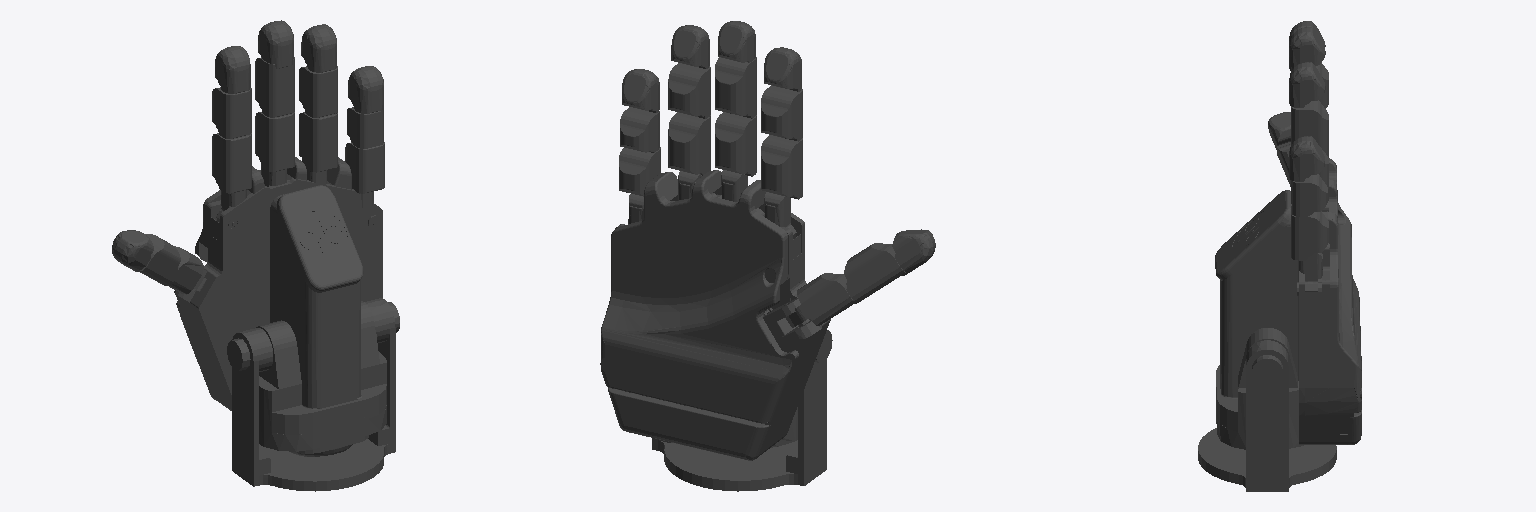
--- Render facts (derived) ---
3 views of the same robot in one strip: view 1: azimuth 30°, elevation 25°; view 2: azimuth 150°, elevation 25°; view 3: azimuth 270°, elevation 25° (orthographic).
Model qbshin with 38 links and 37 joints (34 revolute, 3 fixed), rooted at root_link, posed every joint at zero.
Visible links, largest first — view 1: qbshin_palm_link, qbshin_base_link, qbshin_index_proximal_link, qbshin_middle_proximal_link, qbshin_ring_proximal_link, qbshin_middle_middle_link, qbshin_index_middle_link, qbshin_ring_middle_link, qbshin_little_proximal_link, qbshin_index_distal_link, qbshin_little_distal_link, qbshin_ring_distal_link (+5 smaller); view 2: qbshin_palm_link, qbshin_base_link, qbshin_ring_proximal_link, qbshin_middle_proximal_link, qbshin_index_proximal_link, qbshin_thumb_proximal_link, qbshin_thumb_knuckle_link, qbshin_middle_middle_link, qbshin_ring_middle_link, qbshin_index_middle_link, qbshin_little_middle_link, qbshin_little_proximal_link (+7 smaller); view 3: qbshin_palm_link, qbshin_base_link, qbshin_little_proximal_link, qbshin_ring_middle_link, qbshin_ring_distal_link, qbshin_little_distal_link, qbshin_little_middle_link, qbshin_middle_distal_link, qbshin_little_knuckle_link, qbshin_thumb_distal_link.
Boxes of the visible links, box(x1,y1,x2,y2) form: qbshin_palm_link: box(174, 157, 386, 456); qbshin_base_link: box(227, 298, 399, 491); qbshin_index_proximal_link: box(212, 133, 251, 193); qbshin_middle_proximal_link: box(255, 112, 294, 171); qbshin_ring_proximal_link: box(299, 112, 337, 172); qbshin_middle_middle_link: box(255, 57, 294, 117); qbshin_index_middle_link: box(212, 87, 251, 138); qbshin_ring_middle_link: box(299, 66, 337, 117); qbshin_little_proximal_link: box(345, 142, 384, 193); qbshin_index_distal_link: box(215, 46, 250, 93); qbshin_little_distal_link: box(348, 66, 383, 113); qbshin_ring_distal_link: box(301, 24, 336, 72); qbshin_palm_link: box(600, 170, 830, 460); qbshin_base_link: box(652, 330, 832, 491); qbshin_ring_proximal_link: box(668, 112, 710, 175); qbshin_middle_proximal_link: box(715, 112, 756, 176); qbshin_index_proximal_link: box(761, 135, 802, 199); qbshin_thumb_proximal_link: box(844, 243, 905, 303); qbshin_thumb_knuckle_link: box(785, 273, 854, 327); qbshin_middle_middle_link: box(715, 57, 756, 118); qbshin_ring_middle_link: box(668, 63, 710, 118); qbshin_index_middle_link: box(761, 85, 802, 141); qbshin_little_middle_link: box(620, 107, 659, 152); qbshin_little_proximal_link: box(619, 147, 660, 196); qbshin_palm_link: box(1215, 158, 1361, 449); qbshin_base_link: box(1198, 340, 1336, 491); qbshin_little_proximal_link: box(1291, 206, 1328, 260); qbshin_ring_middle_link: box(1291, 100, 1328, 145); qbshin_ring_distal_link: box(1289, 62, 1325, 107); qbshin_little_distal_link: box(1289, 136, 1324, 181); qbshin_little_middle_link: box(1292, 174, 1327, 216); qbshin_middle_distal_link: box(1289, 27, 1325, 70); qbshin_little_knuckle_link: box(1297, 253, 1322, 295); qbshin_thumb_distal_link: box(1268, 112, 1290, 149).
Size in the robot's own frame: 0.1598 by 0.0839 by 0.2363 metres.
Meshes: 10 distinct files referenced, 21 mesh visuals loaded (10 binary STL).

URDF robot description (qbshin):
<?xml version="1.0" ?>
<!-- =================================================================================== -->
<!-- |    This document was autogenerated by xacro from ./qbshin.urdf.xacro            | -->
<!-- |    EDITING THIS FILE BY HAND IS NOT RECOMMENDED                                 | -->
<!-- =================================================================================== -->
<robot name="qbshin">
  <material name="qbshin/optional">
    <color rgba="0.0 0.5 0.8 1.0"/>
  </material>
  <material name="qbshin/base">
    <color rgba="0.35 0.35 0.35 1.0"/>
  </material>
  <material name="qbshin/palm">
    <color rgba="0.35 0.35 0.35 1.0"/>
  </material>
  <material name="qbshin/knuckle">
    <color rgba="0.35 0.35 0.35 1.0"/>
  </material>
  <material name="qbshin/proximal">
    <color rgba="0.35 0.35 0.35 1.0"/>
  </material>
  <material name="qbshin/middle">
    <color rgba="0.35 0.35 0.35 1.0"/>
  </material>
  <material name="qbshin/distal">
    <color rgba="0.35 0.35 0.35 1.0"/>
  </material>
  <material name="qbshin/default">
    <color rgba="0.35 0.35 0.35 1.0"/>
  </material>
  <link name="root_link"/>
  <joint name="qbshin_base_fixed_joint" type="fixed">
    <origin rpy="0 0 0" xyz="0 0 0"/>
    <parent link="root_link"/>
    <child link="qbshin_base_link"/>
  </joint>
  <link name="qbshin_base_link">
    <inertial>
      <mass value="0.45"/>
      <origin rpy="0 0 0" xyz="0.0030 -0.0449 0.0135"/>
      <inertia ixx="0.00045" ixy="0.0" ixz="0.0" iyy="0.0006" iyz="0.0" izz="0.00025"/>
    </inertial>
    <visual>
      <origin rpy="0 0 0" xyz="0 0 0"/>
      <geometry>
        <mesh filename="package://meshes/shin_wrist_urdf.stl" scale="0.001 0.001 0.001"/>
      </geometry>
      <material name="qbshin/base"/>
    </visual>
    <collision>
      <origin rpy="0 0 0" xyz="0 0 0"/>
      <geometry>
        <mesh filename="package://meshes/shin_wrist_urdf.stl" scale="0.001 0.001 0.001"/>
      </geometry>
    </collision>
  </link>
  <gazebo reference="qbshin_base_link">
    <self_collide>1</self_collide>
    <!-- TODO: add other Gazebo Link properties (http://sdformat.org/spec?elem=link) -->
    <!--      <collision>-->
    <!--        <surface>-->
    <!--          <contact>-->
    <!--            <ode>-->
    <!--              <kp>1.0</kp>-->
    <!--              <kd>0.01</kd>-->
    <!--              <max_vel>0.0</max_vel>-->
    <!--              <min_depth>0.001</min_depth>-->
    <!--            </ode>-->
    <!--          </contact>-->
    <!--          <friction>-->
    <!--            <ode>-->
    <!--              <mu>0.9</mu>-->
    <!--              <mu2>0.9</mu2>-->
    <!--            </ode>-->
    <!--          </friction>-->
    <!--        </surface>-->
    <!--      </collision>-->
  </gazebo>
  <joint name="qbshin_palm_fixed_joint" type="fixed">
    <origin rpy="1.57 0 0" xyz="-0.005 0.0 0.071"/>
    <parent link="qbshin_base_link"/>
    <child link="qbshin_palm_link"/>
  </joint>
  <link name="qbshin_palm_link">
    <inertial>
      <mass value="0.45"/>
      <origin rpy="0 0 0" xyz="0.0030 -0.0449 -0.0135"/>
      <inertia ixx="0.00045" ixy="0.0" ixz="0.0" iyy="0.0006" iyz="0.0" izz="0.00025"/>
    </inertial>
    <visual>
      <origin rpy="0 0 0" xyz="0 0 0"/>
      <geometry>
        <mesh filename="package://meshes/shin_frame_urdf.stl" scale="0.001 0.001 0.001"/>
      </geometry>
      <material name="qbshin/palm"/>
    </visual>
    <collision>
      <origin rpy="0 0 0" xyz="0 0 0"/>
      <geometry>
        <mesh filename="package://meshes/shin_frame_urdf.stl" scale="0.001 0.001 0.001"/>
      </geometry>
    </collision>
  </link>
  <gazebo reference="qbshin_palm_link">
    <self_collide>1</self_collide>
    <!-- TODO: add other Gazebo Link properties (http://sdformat.org/spec?elem=link) -->
    <!--      <collision>-->
    <!--        <surface>-->
    <!--          <contact>-->
    <!--            <ode>-->
    <!--              <kp>1.0</kp>-->
    <!--              <kd>0.01</kd>-->
    <!--              <max_vel>0.0</max_vel>-->
    <!--              <min_depth>0.001</min_depth>-->
    <!--            </ode>-->
    <!--          </contact>-->
    <!--          <friction>-->
    <!--            <ode>-->
    <!--              <mu>0.9</mu>-->
    <!--              <mu2>0.9</mu2>-->
    <!--            </ode>-->
    <!--          </friction>-->
    <!--        </surface>-->
    <!--      </collision>-->
  </gazebo>
  <joint name="qbshin_synergy_joint" type="revolute">
    <origin rpy="0 0 0" xyz="0 0 0"/>
    <parent link="qbshin_palm_link"/>
    <child link="qbshin_synergy_tendon_virtual_link"/>
    <axis xyz="0 0 1"/>
    <dynamics damping="0.0" friction="0.0"/>
    <limit effort="100" lower="0.0" upper="1.0" velocity="100"/>
  </joint>
  <transmission name="qbshin_synergy_transmission">
    <type>transmission_interface/qbMoveTransmission</type>
    <joint name="qbshin_synergy_joint">
      <hardwareInterface>hardware_interface/EffortJointInterface</hardwareInterface>
    </joint>
    <actuator name="qbshin_synergy_joint">
      <hardwareInterface>hardware_interface/EffortJointInterface</hardwareInterface>
    </actuator>
  </transmission>
  <link name="qbshin_synergy_tendon_virtual_link">
    <inertial>
      <origin rpy="0 0 0" xyz="0 0 0"/>
      <mass value="1e-4"/>
      <inertia ixx="1e-9" ixy="0.0" ixz="0.0" iyy="1e-9" iyz="0.0" izz="1e-9"/>
    </inertial>
  </link>
  <joint name="qbshin_thumb_knuckle_joint" type="revolute">
    <origin rpy="-1.57 3.5 -0.68" xyz="-0.044 0.027 -0.03"/>
    <parent link="qbshin_palm_link"/>
    <child link="qbshin_thumb_knuckle_link"/>
    <axis xyz="0 0 -1"/>
    <dynamics damping="0.0" friction="0.0"/>
    <limit effort="100" lower="0.0" upper="1.571" velocity="100"/>
    <mimic joint="qbshin_synergy_joint" multiplier="2.542"/>
  </joint>
  <transmission name="qbshin_transmission">
    <type>transmission_interface/qbMoveTransmission</type>
    <joint name="qbshin_thumb_knuckle_joint">
      <hardwareInterface>hardware_interface/EffortJointInterface</hardwareInterface>
    </joint>
    <actuator name="qbshin_thumb_knuckle_joint">
      <hardwareInterface>hardware_interface/EffortJointInterface</hardwareInterface>
    </actuator>
  </transmission>
  <gazebo reference="qbshin_thumb_knuckle_joint">
    <!-- TODO: add other Gazebo Joint properties (http://sdformat.org/spec?elem=joint) -->
  </gazebo>
  <link name="qbshin_thumb_knuckle_link">
    <inertial>
      <mass value="0.01"/>
      <origin rpy="0 0 0" xyz="1.3071561e-02 -2.7357764e-03 6.4347823e-04"/>
      <inertia ixx="3.5865978e-07" ixy="2.0944224e-07" ixz="-6.8657569e-08" iyy="1.3885564e-06" iyz="3.2170608e-08" izz="1.3571203e-06"/>
    </inertial>
    <visual>
      <origin rpy="0 0 0" xyz="0 0 0"/>
      <geometry>
        <mesh filename="package://meshes/sh_ph_thumb_inj_d9_r_urdf.stl" scale="0.001 0.001 0.001"/>
      </geometry>
      <material name="qbshin/knuckle"/>
    </visual>
    <collision>
      <origin rpy="0 0 0" xyz="0 0 0"/>
      <geometry>
        <mesh filename="package://meshes/sh_ph_thumb_inj_d9_r_urdf.stl" scale="0.001 0.001 0.001"/>
      </geometry>
    </collision>
  </link>
  <gazebo reference="qbshin_thumb_knuckle_link">
    <self_collide>1</self_collide>
    <!-- TODO: add other Gazebo Link properties (http://sdformat.org/spec?elem=link) -->
    <!--      <collision>-->
    <!--        <surface>-->
    <!--          <contact>-->
    <!--            <ode>-->
    <!--              <kp>1.0</kp>-->
    <!--              <kd>0.01</kd>-->
    <!--              <max_vel>0.0</max_vel>-->
    <!--              <min_depth>0.001</min_depth>-->
    <!--            </ode>-->
    <!--          </contact>-->
    <!--          <friction>-->
    <!--            <ode>-->
    <!--              <mu>0.9</mu>-->
    <!--              <mu2>0.9</mu2>-->
    <!--            </ode>-->
    <!--          </friction>-->
    <!--        </surface>-->
    <!--      </collision>-->
  </gazebo>
  <joint name="qbshin_thumb_proximal_joint" type="revolute">
    <origin rpy="-1.57 0.0 0.0" xyz="0.02 -0.003 0"/>
    <parent link="qbshin_thumb_knuckle_link"/>
    <child link="qbshin_thumb_proximal_virtual_link"/>
    <axis xyz="0 0 -1"/>
    <dynamics damping="0.0" friction="0.0"/>
    <limit effort="100" lower="0.0" upper="0.785" velocity="100"/>
    <mimic joint="qbshin_synergy_joint" multiplier="0.785"/>
  </joint>
  <transmission name="qbshin_transmission">
    <type>transmission_interface/qbMoveTransmission</type>
    <joint name="qbshin_thumb_proximal_joint">
      <hardwareInterface>hardware_interface/EffortJointInterface</hardwareInterface>
    </joint>
    <actuator name="qbshin_thumb_proximal_joint">
      <hardwareInterface>hardware_interface/EffortJointInterface</hardwareInterface>
    </actuator>
  </transmission>
  <gazebo reference="qbshin_thumb_proximal_joint">
    <!-- TODO: add other Gazebo Joint properties (http://sdformat.org/spec?elem=joint) -->
  </gazebo>
  <link name="qbshin_thumb_proximal_virtual_link">
    <inertial>
      <origin rpy="0 0 0" xyz="0 0 0"/>
      <mass value="1e-4"/>
      <inertia ixx="1e-9" ixy="0.0" ixz="0.0" iyy="1e-9" iyz="0.0" izz="1e-9"/>
    </inertial>
  </link>
  <joint name="qbshin_thumb_proximal_virtual_joint" type="revolute">
    <origin rpy="0 0 0" xyz="0.013 0 0"/>
    <parent link="qbshin_thumb_proximal_virtual_link"/>
    <child link="qbshin_thumb_proximal_link"/>
    <axis xyz="0 0 -1"/>
    <dynamics damping="0.0" friction="0.0"/>
    <limit effort="100" lower="0.0" upper="0.785" velocity="100"/>
    <mimic joint="qbshin_thumb_proximal_joint" multiplier="1.0"/>
  </joint>
  <transmission name="qbshin_transmission">
    <type>transmission_interface/qbMoveTransmission</type>
    <joint name="qbshin_thumb_proximal_virtual_joint">
      <hardwareInterface>hardware_interface/EffortJointInterface</hardwareInterface>
    </joint>
    <actuator name="qbshin_thumb_proximal_virtual_joint">
      <hardwareInterface>hardware_interface/EffortJointInterface</hardwareInterface>
    </actuator>
  </transmission>
  <gazebo reference="qbshin_thumb_proximal_virtual_joint">
    <!-- TODO: add other Gazebo Joint properties (http://sdformat.org/spec?elem=joint) -->
  </gazebo>
  <link name="qbshin_thumb_proximal_link">
    <inertial>
      <mass value="0.0082"/>
      <origin rpy="0 0 0" xyz="8.7707437e-03 -1.7863138e-03 0.0"/>
      <inertia ixx="2.2722068e-07" ixy="1.1586053e-08" ixz="0.0" iyy="5.5947233e-07" iyz="0.0" izz="5.9562195e-07"/>
    </inertial>
    <visual>
      <origin rpy="0 0 0" xyz="0 0 0"/>
      <geometry>
        <mesh filename="package://meshes/mc_h_pad_30_urdf.stl" scale="0.001 0.001 0.001"/>
      </geometry>
      <material name="qbshin/proximal"/>
    </visual>
    <collision>
      <origin rpy="0 0 0" xyz="0 0 0"/>
      <geometry>
        <mesh filename="package://meshes/mc_h_pad_30_urdf.stl" scale="0.001 0.001 0.001"/>
      </geometry>
    </collision>
  </link>
  <gazebo reference="qbshin_thumb_proximal_link">
    <self_collide>1</self_collide>
    <!-- TODO: add other Gazebo Link properties (http://sdformat.org/spec?elem=link) -->
    <!--      <collision>-->
    <!--        <surface>-->
    <!--          <contact>-->
    <!--            <ode>-->
    <!--              <kp>1.0</kp>-->
    <!--              <kd>0.01</kd>-->
    <!--              <max_vel>0.0</max_vel>-->
    <!--              <min_depth>0.001</min_depth>-->
    <!--            </ode>-->
    <!--          </contact>-->
    <!--          <friction>-->
    <!--            <ode>-->
    <!--              <mu>0.9</mu>-->
    <!--              <mu2>0.9</mu2>-->
    <!--            </ode>-->
    <!--          </friction>-->
    <!--        </surface>-->
    <!--      </collision>-->
  </gazebo>
  <joint name="qbshin_thumb_distal_joint" type="revolute">
    <origin rpy="0.0 0.0 0.0" xyz="0.014 0.002 0"/>
    <parent link="qbshin_thumb_proximal_link"/>
    <child link="qbshin_thumb_distal_virtual_link"/>
    <axis xyz="0 0 -1"/>
    <dynamics damping="0.0" friction="0.0"/>
    <limit effort="100" lower="0.0" upper="0.785" velocity="100"/>
    <mimic joint="qbshin_synergy_joint" multiplier="0.785"/>
  </joint>
  <transmission name="qbshin_transmission">
    <type>transmission_interface/qbMoveTransmission</type>
    <joint name="qbshin_thumb_distal_joint">
      <hardwareInterface>hardware_interface/EffortJointInterface</hardwareInterface>
    </joint>
    <actuator name="qbshin_thumb_distal_joint">
      <hardwareInterface>hardware_interface/EffortJointInterface</hardwareInterface>
    </actuator>
  </transmission>
  <gazebo reference="qbshin_thumb_distal_joint">
    <!-- TODO: add other Gazebo Joint properties (http://sdformat.org/spec?elem=joint) -->
  </gazebo>
  <link name="qbshin_thumb_distal_virtual_link">
    <inertial>
      <origin rpy="0 0 0" xyz="0 0 0"/>
      <mass value="1e-4"/>
      <inertia ixx="1e-9" ixy="0.0" ixz="0.0" iyy="1e-9" iyz="0.0" izz="1e-9"/>
    </inertial>
  </link>
  <joint name="qbshin_thumb_distal_virtual_joint" type="revolute">
    <origin rpy="0 0 0" xyz="0.013 0 0"/>
    <parent link="qbshin_thumb_distal_virtual_link"/>
    <child link="qbshin_thumb_distal_link"/>
    <axis xyz="0 0 -1"/>
    <dynamics damping="0.0" friction="0.0"/>
    <limit effort="100" lower="0.0" upper="0.785" velocity="100"/>
    <mimic joint="qbshin_thumb_distal_joint" multiplier="1.0"/>
  </joint>
  <transmission name="qbshin_transmission">
    <type>transmission_interface/qbMoveTransmission</type>
    <joint name="qbshin_thumb_distal_virtual_joint">
      <hardwareInterface>hardware_interface/EffortJointInterface</hardwareInterface>
    </joint>
    <actuator name="qbshin_thumb_distal_virtual_joint">
      <hardwareInterface>hardware_interface/EffortJointInterface</hardwareInterface>
    </actuator>
  </transmission>
  <gazebo reference="qbshin_thumb_distal_virtual_joint">
    <!-- TODO: add other Gazebo Joint properties (http://sdformat.org/spec?elem=joint) -->
  </gazebo>
  <link name="qbshin_thumb_distal_link">
    <inertial>
      <mass value="0.009"/>
      <origin rpy="0 0 0" xyz="8.8025467e-03 -1.7219289e-03 0.0"/>
      <inertia ixx="2.6586142e-07" ixy="1.2416847e-08" ixz="0.0" iyy="5.9935767e-07" iyz="0.0" izz="6.6781963e-07"/>
    </inertial>
    <visual>
      <origin rpy="0 0 0" xyz="0 0 0"/>
      <geometry>
        <mesh filename="package://meshes/mc_h_pad_dist_urdf.stl" scale="0.001 0.001 0.001"/>
      </geometry>
      <material name="qbshin/distal"/>
    </visual>
    <collision>
      <origin rpy="0 0 0" xyz="0 0 0"/>
      <geometry>
        <mesh filename="package://meshes/mc_h_pad_dist_urdf.stl" scale="0.001 0.001 0.001"/>
      </geometry>
    </collision>
  </link>
  <gazebo reference="qbshin_thumb_distal_link">
    <self_collide>1</self_collide>
    <!-- TODO: add other Gazebo Link properties (http://sdformat.org/spec?elem=link) -->
    <!--      <collision>-->
    <!--        <surface>-->
    <!--          <contact>-->
    <!--            <ode>-->
    <!--              <kp>1.0</kp>-->
    <!--              <kd>0.01</kd>-->
    <!--              <max_vel>0.0</max_vel>-->
    <!--              <min_depth>0.001</min_depth>-->
    <!--            </ode>-->
    <!--          </contact>-->
    <!--          <friction>-->
    <!--            <ode>-->
    <!--              <mu>0.9</mu>-->
    <!--              <mu2>0.9</mu2>-->
    <!--            </ode>-->
    <!--          </friction>-->
    <!--        </surface>-->
    <!--      </collision>-->
  </gazebo>
  <joint name="qbshin_index_knuckle_joint" type="revolute">
    <origin rpy="1.57 0 1.57" xyz="-0.032 0.062 -0.022"/>
    <parent link="qbshin_palm_link"/>
    <child link="qbshin_index_knuckle_link"/>
    <axis xyz="0 0 -1"/>
    <dynamics damping="0.0" friction="0.0"/>
    <limit effort="100" lower="-0.524" upper="0.524" velocity="100"/>
    <mimic joint="qbshin_synergy_joint" multiplier="-0.2"/>
  </joint>
  <transmission name="qbshin_transmission">
    <type>transmission_interface/qbMoveTransmission</type>
    <joint name="qbshin_index_knuckle_joint">
      <hardwareInterface>hardware_interface/EffortJointInterface</hardwareInterface>
    </joint>
    <actuator name="qbshin_index_knuckle_joint">
      <hardwareInterface>hardware_interface/EffortJointInterface</hardwareInterface>
    </actuator>
  </transmission>
  <gazebo reference="qbshin_index_knuckle_joint">
    <!-- TODO: add other Gazebo Joint properties (http://sdformat.org/spec?elem=joint) -->
  </gazebo>
  <link name="qbshin_index_knuckle_link">
    <inertial>
      <mass value="0.0095"/>
      <origin rpy="0 0 0" xyz="4.2753603e-04  0.0 -1.4321738e-03"/>
      <inertia ixx="6.4337303e-07" ixy="0.0" ixz="-3.9373913e-08" iyy="1.1253771e-06" iyz="0.0" izz="7.2336948e-07"/>
    </inertial>
    <visual>
      <origin rpy="0 0 0" xyz="0 0 0"/>
      <geometry>
        <mesh filename="package://meshes/sh_ph_prx_inj_d9_l_urdf.stl" scale="0.001 0.001 0.001"/>
      </geometry>
      <material name="qbshin/knuckle"/>
    </visual>
    <collision>
      <origin rpy="0 0 0" xyz="0 0 0"/>
      <geometry>
        <mesh filename="package://meshes/sh_ph_prx_inj_d9_l_urdf.stl" scale="0.001 0.001 0.001"/>
      </geometry>
    </collision>
  </link>
  <gazebo reference="qbshin_index_knuckle_link">
    <self_collide>1</self_collide>
    <!-- TODO: add other Gazebo Link properties (http://sdformat.org/spec?elem=link) -->
    <!--      <collision>-->
    <!--        <surface>-->
    <!--          <contact>-->
    <!--            <ode>-->
    <!--              <kp>1.0</kp>-->
    <!--              <kd>0.01</kd>-->
    <!--              <max_vel>0.0</max_vel>-->
    <!--              <min_depth>0.001</min_depth>-->
    <!--            </ode>-->
    <!--          </contact>-->
    <!--          <friction>-->
    <!--            <ode>-->
    <!--              <mu>0.9</mu>-->
    <!--              <mu2>0.9</mu2>-->
    <!--            </ode>-->
    <!--          </friction>-->
    <!--        </surface>-->
    <!--      </collision>-->
  </gazebo>
  <joint name="qbshin_index_proximal_joint" type="revolute">
    <origin rpy="0.0 0.0 0.0" xyz="0.01 0 0.002"/>
    <parent link="qbshin_index_knuckle_link"/>
    <child link="qbshin_index_proximal_virtual_link"/>
    <axis xyz="0 0 -1"/>
    <dynamics damping="0.0" friction="0.0"/>
    <limit effort="100" lower="0.0" upper="0.785" velocity="100"/>
    <mimic joint="qbshin_synergy_joint" multiplier="0.785"/>
  </joint>
  <transmission name="qbshin_transmission">
    <type>transmission_interface/qbMoveTransmission</type>
    <joint name="qbshin_index_proximal_joint">
      <hardwareInterface>hardware_interface/EffortJointInterface</hardwareInterface>
    </joint>
    <actuator name="qbshin_index_proximal_joint">
      <hardwareInterface>hardware_interface/EffortJointInterface</hardwareInterface>
    </actuator>
  </transmission>
  <gazebo reference="qbshin_index_proximal_joint">
    <!-- TODO: add other Gazebo Joint properties (http://sdformat.org/spec?elem=joint) -->
  </gazebo>
  <link name="qbshin_index_proximal_virtual_link">
    <inertial>
      <origin rpy="0 0 0" xyz="0 0 0"/>
      <mass value="1e-4"/>
      <inertia ixx="1e-9" ixy="0.0" ixz="0.0" iyy="1e-9" iyz="0.0" izz="1e-9"/>
    </inertial>
  </link>
  <joint name="qbshin_index_proximal_virtual_joint" type="revolute">
    <origin rpy="0 0 0" xyz="0.013 0 0"/>
    <parent link="qbshin_index_proximal_virtual_link"/>
    <child link="qbshin_index_proximal_link"/>
    <axis xyz="0 0 -1"/>
    <dynamics damping="0.0" friction="0.0"/>
    <limit effort="100" lower="0.0" upper="0.785" velocity="100"/>
    <mimic joint="qbshin_index_proximal_joint" multiplier="1.0"/>
  </joint>
  <transmission name="qbshin_transmission">
    <type>transmission_interface/qbMoveTransmission</type>
    <joint name="qbshin_index_proximal_virtual_joint">
      <hardwareInterface>hardware_interface/EffortJointInterface</hardwareInterface>
    </joint>
    <actuator name="qbshin_index_proximal_virtual_joint">
      <hardwareInterface>hardware_interface/EffortJointInterface</hardwareInterface>
    </actuator>
  </transmission>
  <gazebo reference="qbshin_index_proximal_virtual_joint">
    <!-- TODO: add other Gazebo Joint properties (http://sdformat.org/spec?elem=joint) -->
  </gazebo>
  <link name="qbshin_index_proximal_link">
    <inertial>
      <mass value="0.0082"/>
      <origin rpy="0 0 0" xyz="8.7707437e-03 -1.7863138e-03 0.0"/>
      <inertia ixx="2.2722068e-07" ixy="1.1586053e-08" ixz="0.0" iyy="5.5947233e-07" iyz="0.0" izz="5.9562195e-07"/>
    </inertial>
    <visual>
      <origin rpy="0 0 0" xyz="0 0 0"/>
      <geometry>
        <mesh filename="package://meshes/mc_h_pad_30_urdf.stl" scale="0.001 0.001 0.001"/>
      </geometry>
      <material name="qbshin/proximal"/>
    </visual>
    <collision>
      <origin rpy="0 0 0" xyz="0 0 0"/>
      <geometry>
        <mesh filename="package://meshes/mc_h_pad_30_urdf.stl" scale="0.001 0.001 0.001"/>
      </geometry>
    </collision>
  </link>
  <gazebo reference="qbshin_index_proximal_link">
    <self_collide>1</self_collide>
    <!-- TODO: add other Gazebo Link properties (http://sdformat.org/spec?elem=link) -->
    <!--      <collision>-->
    <!--        <surface>-->
    <!--          <contact>-->
    <!--            <ode>-->
    <!--              <kp>1.0</kp>-->
    <!--              <kd>0.01</kd>-->
    <!--              <max_vel>0.0</max_vel>-->
    <!--              <min_depth>0.001</min_depth>-->
    <!--            </ode>-->
    <!--          </contact>-->
    <!--          <friction>-->
    <!--            <ode>-->
    <!--              <mu>0.9</mu>-->
    <!--              <mu2>0.9</mu2>-->
    <!--            </ode>-->
    <!--          </friction>-->
    <!--        </surface>-->
    <!--      </collision>-->
  </gazebo>
  <joint name="qbshin_index_middle_joint" type="revolute">
    <origin rpy="0 0 0" xyz="0.017 0 0"/>
    <parent link="qbshin_index_proximal_link"/>
    <child link="qbshin_index_middle_virtual_link"/>
    <axis xyz="0 0 -1"/>
    <dynamics damping="0.0" friction="0.0"/>
    <limit effort="100" lower="0.0" upper="0.785" velocity="100"/>
    <mimic joint="qbshin_synergy_joint" multiplier="0.785"/>
  </joint>
  <transmission name="qbshin_transmission">
    <type>transmission_interface/qbMoveTransmission</type>
    <joint name="qbshin_index_middle_joint">
      <hardwareInterface>hardware_interface/EffortJointInterface</hardwareInterface>
    </joint>
    <actuator name="qbshin_index_middle_joint">
      <hardwareInterface>hardware_interface/EffortJointInterface</hardwareInterface>
    </actuator>
  </transmission>
  <gazebo reference="qbshin_index_middle_joint">
    <!-- TODO: add other Gazebo Joint properties (http://sdformat.org/spec?elem=joint) -->
  </gazebo>
  <link name="qbshin_index_middle_virtual_link">
    <inertial>
      <origin rpy="0 0 0" xyz="0 0 0"/>
      <mass value="1e-4"/>
      <inertia ixx="1e-9" ixy="0.0" ixz="0.0" iyy="1e-9" iyz="0.0" izz="1e-9"/>
    </inertial>
  </link>
  <joint name="qbshin_index_middle_virtual_joint" type="revolute">
    <origin rpy="0 0 0" xyz="0.013 0 0"/>
    <parent link="qbshin_index_middle_virtual_link"/>
    <child link="qbshin_index_middle_link"/>
    <axis xyz="0 0 -1"/>
    <dynamics damping="0.0" friction="0.0"/>
    <limit effort="100" lower="0.0" upper="0.785" velocity="100"/>
    <mimic joint="qbshin_index_middle_joint" multiplier="1.0"/>
  </joint>
  <transmission name="qbshin_transmission">
    <type>transmission_interface/qbMoveTransmission</type>
    <joint name="qbshin_index_middle_virtual_joint">
      <hardwareInterface>hardware_interface/EffortJointInterface</hardwareInterface>
    </joint>
    <actuator name="qbshin_index_middle_virtual_joint">
      <hardwareInterface>hardware_interface/EffortJointInterface</hardwareInterface>
    </actuator>
  </transmission>
  <gazebo reference="qbshin_index_middle_virtual_joint">
    <!-- TODO: add other Gazebo Joint properties (http://sdformat.org/spec?elem=joint) -->
  </gazebo>
  <link name="qbshin_index_middle_link">
    <inertial>
      <mass value="0.0082"/>
      <origin rpy="0 0 0" xyz="8.7707437e-03 -1.7863138e-03 0.0"/>
      <inertia ixx="2.2722068e-07" ixy="1.1586053e-08" ixz="0.0" iyy="5.5947233e-07" iyz="0.0" izz="5.9562195e-07"/>
    </inertial>
    <visual>
      <origin rpy="0 0 0" xyz="0 0 0"/>
      <geometry>
        <mesh filename="package://meshes/mc_h_pad_25_urdf.stl" scale="0.001 0.001 0.001"/>
      </geometry>
      <material name="qbshin/middle"/>
    </visual>
    <collision>
      <origin rpy="0 0 0" xyz="0 0 0"/>
      <geometry>
        <mesh filename="package://meshes/mc_h_pad_25_urdf.stl" scale="0.001 0.001 0.001"/>
      </geometry>
    </collision>
  </link>
  <gazebo reference="qbshin_index_middle_link">
    <self_collide>1</self_collide>
    <!-- TODO: add other Gazebo Link properties (http://sdformat.org/spec?elem=link) -->
    <!--      <collision>-->
    <!--        <surface>-->
    <!--          <contact>-->
    <!--            <ode>-->
    <!--              <kp>1.0</kp>-->
    <!--              <kd>0.01</kd>-->
    <!--              <max_vel>0.0</max_vel>-->
    <!--              <min_depth>0.001</min_depth>-->
    <!--            </ode>-->
    <!--          </contact>-->
    <!--          <friction>-->
    <!--            <ode>-->
    <!--              <mu>0.9</mu>-->
    <!--              <mu2>0.9</mu2>-->
    <!--            </ode>-->
    <!--          </friction>-->
    <!--        </surface>-->
    <!--      </collision>-->
  </gazebo>
  <joint name="qbshin_index_distal_joint" type="revolute">
    <origin rpy="0.0 0.0 0.0" xyz="0.012 0.002 0"/>
    <parent link="qbshin_index_middle_link"/>
    <child link="qbshin_index_distal_virtual_link"/>
    <axis xyz="0 0 -1"/>
    <dynamics damping="0.0" friction="0.0"/>
    <limit effort="100" lower="0.0" upper="0.785" velocity="100"/>
    <mimic joint="qbshin_synergy_joint" multiplier="0.785"/>
  </joint>
  <transmission name="qbshin_transmission">
    <type>transmission_interface/qbMoveTransmission</type>
    <joint name="qbshin_index_distal_joint">
      <hardwareInterface>hardware_interface/EffortJointInterface</hardwareInterface>
    </joint>
    <actuator name="qbshin_index_distal_joint">
      <hardwareInterface>hardware_interface/EffortJointInterface</hardwareInterface>
    </actuator>
  </transmission>
  <gazebo reference="qbshin_index_distal_joint">
    <!-- TODO: add other Gazebo Joint properties (http://sdformat.org/spec?elem=joint) -->
  </gazebo>
  <link name="qbshin_index_distal_virtual_link">
    <inertial>
      <origin rpy="0 0 0" xyz="0 0 0"/>
      <mass value="1e-4"/>
      <inertia ixx="1e-9" ixy="0.0" ixz="0.0" iyy="1e-9" iyz="0.0" izz="1e-9"/>
    </inertial>
  </link>
  <joint name="qbshin_index_distal_virtual_joint" type="revolute">
    <origin rpy="0 0 0" xyz="0.013 0 0"/>
    <parent link="qbshin_index_distal_virtual_link"/>
    <child link="qbshin_index_distal_link"/>
    <axis xyz="0 0 -1"/>
    <dynamics damping="0.0" friction="0.0"/>
    <limit effort="100" lower="0.0" upper="0.785" velocity="100"/>
    <mimic joint="qbshin_index_distal_joint" multiplier="1.0"/>
  </joint>
  <transmission name="qbshin_transmission">
    <type>transmission_interface/qbMoveTransmission</type>
    <joint name="qbshin_index_distal_virtual_joint">
      <hardwareInterface>hardware_interface/EffortJointInterface</hardwareInterface>
    </joint>
    <actuator name="qbshin_index_distal_virtual_joint">
      <hardwareInterface>hardware_interface/EffortJointInterface</hardwareInterface>
    </actuator>
  </transmission>
  <gazebo reference="qbshin_index_distal_virtual_joint">
    <!-- TODO: add other Gazebo Joint properties (http://sdformat.org/spec?elem=joint) -->
  </gazebo>
  <link name="qbshin_index_distal_link">
    <inertial>
      <mass value="0.009"/>
      <origin rpy="0 0 0" xyz="8.8025467e-03 -1.7219289e-03 0.0"/>
      <inertia ixx="2.6586142e-07" ixy="1.2416847e-08" ixz="0.0" iyy="5.9935767e-07" iyz="0.0" izz="6.6781963e-07"/>
    </inertial>
    <visual>
      <origin rpy="0 0 0" xyz="0 0 0"/>
      <geometry>
        <mesh filename="package://meshes/mc_h_pad_dist_urdf.stl" scale="0.001 0.001 0.001"/>
      </geometry>
      <material name="qbshin/distal"/>
    </visual>
    <collision>
      <origin rpy="0 0 0" xyz="0 0 0"/>
      <geometry>
        <mesh filename="package://meshes/mc_h_pad_dist_urdf.stl" scale="0.001 0.001 0.001"/>
      </geometry>
    </collision>
  </link>
  <gazebo reference="qbshin_index_distal_link">
    <self_collide>1</self_collide>
    <!-- TODO: add other Gazebo Link properties (http://sdformat.org/spec?elem=link) -->
    <!--      <collision>-->
    <!--        <surface>-->
    <!--          <contact>-->
    <!--            <ode>-->
    <!--              <kp>1.0</kp>-->
    <!--              <kd>0.01</kd>-->
    <!--              <max_vel>0.0</max_vel>-->
    <!--              <min_depth>0.001</min_depth>-->
    <!--            </ode>-->
    <!--          </contact>-->
    <!--          <friction>-->
    <!--            <ode>-->
    <!--              <mu>0.9</mu>-->
    <!--              <mu2>0.9</mu2>-->
    <!--            </ode>-->
    <!--          </friction>-->
    <!--        </surface>-->
    <!--      </collision>-->
  </gazebo>
  <joint name="qbshin_middle_knuckle_joint" type="revolute">
    <origin rpy="1.57 0 1.57" xyz="-0.005 0.068 -0.022"/>
    <parent link="qbshin_palm_link"/>
    <child link="qbshin_middle_knuckle_link"/>
    <axis xyz="0 0 -1"/>
    <dynamics damping="0.0" friction="0.0"/>
    <limit effort="100" lower="-0.524" upper="0.524" velocity="100"/>
    <mimic joint="qbshin_synergy_joint" multiplier="0.0"/>
  </joint>
  <transmission name="qbshin_transmission">
    <type>transmission_interface/qbMoveTransmission</type>
    <joint name="qbshin_middle_knuckle_joint">
      <hardwareInterface>hardware_interface/EffortJointInterface</hardwareInterface>
    </joint>
    <actuator name="qbshin_middle_knuckle_joint">
      <hardwareInterface>hardware_interface/EffortJointInterface</hardwareInterface>
    </actuator>
  </transmission>
  <gazebo reference="qbshin_middle_knuckle_joint">
    <!-- TODO: add other Gazebo Joint properties (http://sdformat.org/spec?elem=joint) -->
  </gazebo>
  <link name="qbshin_middle_knuckle_link">
    <inertial>
      <mass value="0.0095"/>
      <origin rpy="0 0 0" xyz="4.2753603e-04  0.0 -1.4321738e-03"/>
      <inertia ixx="6.4337303e-07" ixy="0.0" ixz="-3.9373913e-08" iyy="1.1253771e-06" iyz="0.0" izz="7.2336948e-07"/>
    </inertial>
    <visual>
      <origin rpy="0 0 0" xyz="0 0 0"/>
      <geometry>
        <mesh filename="package://meshes/sh_ph_prx_inj_d9_m_urdf.stl" scale="0.001 0.001 0.001"/>
      </geometry>
      <material name="qbshin/knuckle"/>
    </visual>
    <collision>
      <origin rpy="0 0 0" xyz="0 0 0"/>
      <geometry>
        <mesh filename="package://meshes/sh_ph_prx_inj_d9_m_urdf.stl" scale="0.001 0.001 0.001"/>
      </geometry>
    </collision>
  </link>
  <gazebo reference="qbshin_middle_knuckle_link">
    <self_collide>1</self_collide>
    <!-- TODO: add other Gazebo Link properties (http://sdformat.org/spec?elem=link) -->
    <!--      <collision>-->
    <!--        <surface>-->
    <!--          <contact>-->
    <!--            <ode>-->
    <!--              <kp>1.0</kp>-->
    <!--              <kd>0.01</kd>-->
    <!--              <max_vel>0.0</max_vel>-->
    <!--              <min_depth>0.001</min_depth>-->
    <!--            </ode>-->
    <!--          </contact>-->
    <!--          <friction>-->
    <!--            <ode>-->
    <!--              <mu>0.9</mu>-->
    <!--              <mu2>0.9</mu2>-->
    <!--            </ode>-->
    <!--          </friction>-->
    <!--        </surface>-->
    <!--      </collision>-->
  </gazebo>
  <joint name="qbshin_middle_proximal_joint" type="revolute">
    <origin rpy="0.0 0.0 0.0" xyz="0.01 0 0"/>
    <parent link="qbshin_middle_knuckle_link"/>
    <child link="qbshin_middle_proximal_virtual_link"/>
    <axis xyz="0 0 -1"/>
    <dynamics damping="0.0" friction="0.0"/>
    <limit effort="100" lower="0.0" upper="0.785" velocity="100"/>
    <mimic joint="qbshin_synergy_joint" multiplier="0.785"/>
  </joint>
  <transmission name="qbshin_transmission">
    <type>transmission_interface/qbMoveTransmission</type>
    <joint name="qbshin_middle_proximal_joint">
      <hardwareInterface>hardware_interface/EffortJointInterface</hardwareInterface>
    </joint>
    <actuator name="qbshin_middle_proximal_joint">
      <hardwareInterface>hardware_interface/EffortJointInterface</hardwareInterface>
    </actuator>
  </transmission>
  <gazebo reference="qbshin_middle_proximal_joint">
    <!-- TODO: add other Gazebo Joint properties (http://sdformat.org/spec?elem=joint) -->
  </gazebo>
  <link name="qbshin_middle_proximal_virtual_link">
    <inertial>
      <origin rpy="0 0 0" xyz="0 0 0"/>
      <mass value="1e-4"/>
      <inertia ixx="1e-9" ixy="0.0" ixz="0.0" iyy="1e-9" iyz="0.0" izz="1e-9"/>
    </inertial>
  </link>
  <joint name="qbshin_middle_proximal_virtual_joint" type="revolute">
    <origin rpy="0 0 0" xyz="0.013 0 0"/>
    <parent link="qbshin_middle_proximal_virtual_link"/>
    <child link="qbshin_middle_proximal_link"/>
    <axis xyz="0 0 -1"/>
    <dynamics damping="0.0" friction="0.0"/>
    <limit effort="100" lower="0.0" upper="0.785" velocity="100"/>
    <mimic joint="qbshin_middle_proximal_joint" multiplier="1.0"/>
  </joint>
  <transmission name="qbshin_transmission">
    <type>transmission_interface/qbMoveTransmission</type>
    <joint name="qbshin_middle_proximal_virtual_joint">
      <hardwareInterface>hardware_interface/EffortJointInterface</hardwareInterface>
    </joint>
    <actuator name="qbshin_middle_proximal_virtual_joint">
      <hardwareInterface>hardware_interface/EffortJointInterface</hardwareInterface>
    </actuator>
  </transmission>
  <gazebo reference="qbshin_middle_proximal_virtual_joint">
    <!-- TODO: add other Gazebo Joint properties (http://sdformat.org/spec?elem=joint) -->
  </gazebo>
  <link name="qbshin_middle_proximal_link">
    <inertial>
      <mass value="0.0082"/>
      <origin rpy="0 0 0" xyz="8.7707437e-03 -1.7863138e-03 0.0"/>
      <inertia ixx="2.2722068e-07" ixy="1.1586053e-08" ixz="0.0" iyy="5.5947233e-07" iyz="0.0" izz="5.9562195e-07"/>
    </inertial>
    <visual>
      <origin rpy="0 0 0" xyz="0 0 0"/>
      <geometry>
        <mesh filename="package://meshes/mc_h_pad_30_urdf.stl" scale="0.001 0.001 0.001"/>
      </geometry>
      <material name="qbshin/proximal"/>
    </visual>
    <collision>
      <origin rpy="0 0 0" xyz="0 0 0"/>
      <geometry>
        <mesh filename="package://meshes/mc_h_pad_30_urdf.stl" scale="0.001 0.001 0.001"/>
      </geometry>
    </collision>
  </link>
  <gazebo reference="qbshin_middle_proximal_link">
    <self_collide>1</self_collide>
    <!-- TODO: add other Gazebo Link properties (http://sdformat.org/spec?elem=link) -->
    <!--      <collision>-->
    <!--        <surface>-->
    <!--          <contact>-->
    <!--            <ode>-->
    <!--              <kp>1.0</kp>-->
    <!--              <kd>0.01</kd>-->
    <!--              <max_vel>0.0</max_vel>-->
    <!--              <min_depth>0.001</min_depth>-->
    <!--            </ode>-->
    <!--          </contact>-->
    <!--          <friction>-->
    <!--            <ode>-->
    <!--              <mu>0.9</mu>-->
    <!--              <mu2>0.9</mu2>-->
    <!--            </ode>-->
    <!--          </friction>-->
    <!--        </surface>-->
    <!--      </collision>-->
  </gazebo>
  <joint name="qbshin_middle_middle_joint" type="revolute">
    <origin rpy="0 0 0" xyz="0.017 0 0"/>
    <parent link="qbshin_middle_proximal_link"/>
    <child link="qbshin_middle_middle_virtual_link"/>
    <axis xyz="0 0 -1"/>
    <dynamics damping="0.0" friction="0.0"/>
    <limit effort="100" lower="0.0" upper="0.785" velocity="100"/>
    <mimic joint="qbshin_synergy_joint" multiplier="0.785"/>
  </joint>
  <transmission name="qbshin_transmission">
    <type>transmission_interface/qbMoveTransmission</type>
    <joint name="qbshin_middle_middle_joint">
      <hardwareInterface>hardware_interface/EffortJointInterface</hardwareInterface>
    </joint>
    <actuator name="qbshin_middle_middle_joint">
      <hardwareInterface>hardware_interface/EffortJointInterface</hardwareInterface>
    </actuator>
  </transmission>
  <gazebo reference="qbshin_middle_middle_joint">
    <!-- TODO: add other Gazebo Joint properties (http://sdformat.org/spec?elem=joint) -->
  </gazebo>
  <link name="qbshin_middle_middle_virtual_link">
    <inertial>
      <origin rpy="0 0 0" xyz="0 0 0"/>
      <mass value="1e-4"/>
      <inertia ixx="1e-9" ixy="0.0" ixz="0.0" iyy="1e-9" iyz="0.0" izz="1e-9"/>
    </inertial>
  </link>
  <joint name="qbshin_middle_middle_virtual_joint" type="revolute">
    <origin rpy="0 0 0" xyz="0.013 0 0"/>
    <parent link="qbshin_middle_middle_virtual_link"/>
    <child link="qbshin_middle_middle_link"/>
    <axis xyz="0 0 -1"/>
    <dynamics damping="0.0" friction="0.0"/>
    <limit effort="100" lower="0.0" upper="0.785" velocity="100"/>
    <mimic joint="qbshin_middle_middle_joint" multiplier="1.0"/>
  </joint>
  <transmission name="qbshin_transmission">
    <type>transmission_interface/qbMoveTransmission</type>
    <joint name="qbshin_middle_middle_virtual_joint">
      <hardwareInterface>hardware_interface/EffortJointInterface</hardwareInterface>
    </joint>
    <actuator name="qbshin_middle_middle_virtual_joint">
      <hardwareInterface>hardware_interface/EffortJointInterface</hardwareInterface>
    </actuator>
  </transmission>
  <gazebo reference="qbshin_middle_middle_virtual_joint">
    <!-- TODO: add other Gazebo Joint properties (http://sdformat.org/spec?elem=joint) -->
  </gazebo>
  <link name="qbshin_middle_middle_link">
    <inertial>
      <mass value="0.0082"/>
      <origin rpy="0 0 0" xyz="8.7707437e-03 -1.7863138e-03 0.0"/>
      <inertia ixx="2.2722068e-07" ixy="1.1586053e-08" ixz="0.0" iyy="5.5947233e-07" iyz="0.0" izz="5.9562195e-07"/>
    </inertial>
    <visual>
      <origin rpy="0 0 0" xyz="0 0 0"/>
      <geometry>
        <mesh filename="package://meshes/mc_h_pad_30_urdf.stl" scale="0.001 0.001 0.001"/>
      </geometry>
      <material name="qbshin/middle"/>
    </visual>
    <collision>
      <origin rpy="0 0 0" xyz="0 0 0"/>
      <geometry>
        <mesh filename="package://meshes/mc_h_pad_30_urdf.stl" scale="0.001 0.001 0.001"/>
      </geometry>
    </collision>
  </link>
  <gazebo reference="qbshin_middle_middle_link">
    <self_collide>1</self_collide>
    <!-- TODO: add other Gazebo Link properties (http://sdformat.org/spec?elem=link) -->
    <!--      <collision>-->
    <!--        <surface>-->
    <!--          <contact>-->
    <!--            <ode>-->
    <!--              <kp>1.0</kp>-->
    <!--              <kd>0.01</kd>-->
    <!--              <max_vel>0.0</max_vel>-->
    <!--              <min_depth>0.001</min_depth>-->
    <!--            </ode>-->
    <!--          </contact>-->
    <!--          <friction>-->
    <!--            <ode>-->
    <!--              <mu>0.9</mu>-->
    <!--              <mu2>0.9</mu2>-->
    <!--            </ode>-->
    <!--          </friction>-->
    <!--        </surface>-->
    <!--      </collision>-->
  </gazebo>
  <joint name="qbshin_middle_distal_joint" type="revolute">
    <origin rpy="0.0 0.0 0.0" xyz="0.014 0.002 0"/>
    <parent link="qbshin_middle_middle_link"/>
    <child link="qbshin_middle_distal_virtual_link"/>
    <axis xyz="0 0 -1"/>
    <dynamics damping="0.0" friction="0.0"/>
    <limit effort="100" lower="0.0" upper="0.785" velocity="100"/>
    <mimic joint="qbshin_synergy_joint" multiplier="0.785"/>
  </joint>
  <transmission name="qbshin_transmission">
    <type>transmission_interface/qbMoveTransmission</type>
    <joint name="qbshin_middle_distal_joint">
      <hardwareInterface>hardware_interface/EffortJointInterface</hardwareInterface>
    </joint>
    <actuator name="qbshin_middle_distal_joint">
      <hardwareInterface>hardware_interface/EffortJointInterface</hardwareInterface>
    </actuator>
  </transmission>
  <gazebo reference="qbshin_middle_distal_joint">
    <!-- TODO: add other Gazebo Joint properties (http://sdformat.org/spec?elem=joint) -->
  </gazebo>
  <link name="qbshin_middle_distal_virtual_link">
    <inertial>
      <origin rpy="0 0 0" xyz="0 0 0"/>
      <mass value="1e-4"/>
      <inertia ixx="1e-9" ixy="0.0" ixz="0.0" iyy="1e-9" iyz="0.0" izz="1e-9"/>
    </inertial>
  </link>
  <joint name="qbshin_middle_distal_virtual_joint" type="revolute">
    <origin rpy="0 0 0" xyz="0.013 0 0"/>
    <parent link="qbshin_middle_distal_virtual_link"/>
    <child link="qbshin_middle_distal_link"/>
    <axis xyz="0 0 -1"/>
    <dynamics damping="0.0" friction="0.0"/>
    <limit effort="100" lower="0.0" upper="0.785" velocity="100"/>
    <mimic joint="qbshin_middle_distal_joint" multiplier="1.0"/>
  </joint>
  <transmission name="qbshin_transmission">
    <type>transmission_interface/qbMoveTransmission</type>
    <joint name="qbshin_middle_distal_virtual_joint">
      <hardwareInterface>hardware_interface/EffortJointInterface</hardwareInterface>
    </joint>
    <actuator name="qbshin_middle_distal_virtual_joint">
      <hardwareInterface>hardware_interface/EffortJointInterface</hardwareInterface>
    </actuator>
  </transmission>
  <gazebo reference="qbshin_middle_distal_virtual_joint">
    <!-- TODO: add other Gazebo Joint properties (http://sdformat.org/spec?elem=joint) -->
  </gazebo>
  <link name="qbshin_middle_distal_link">
    <inertial>
      <mass value="0.009"/>
      <origin rpy="0 0 0" xyz="8.8025467e-03 -1.7219289e-03 0.0"/>
      <inertia ixx="2.6586142e-07" ixy="1.2416847e-08" ixz="0.0" iyy="5.9935767e-07" iyz="0.0" izz="6.6781963e-07"/>
    </inertial>
    <visual>
      <origin rpy="0 0 0" xyz="0 0 0"/>
      <geometry>
        <mesh filename="package://meshes/mc_h_pad_dist_urdf.stl" scale="0.001 0.001 0.001"/>
      </geometry>
      <material name="qbshin/distal"/>
    </visual>
    <collision>
      <origin rpy="0 0 0" xyz="0 0 0"/>
      <geometry>
        <mesh filename="package://meshes/mc_h_pad_dist_urdf.stl" scale="0.001 0.001 0.001"/>
      </geometry>
    </collision>
  </link>
  <gazebo reference="qbshin_middle_distal_link">
    <self_collide>1</self_collide>
    <!-- TODO: add other Gazebo Link properties (http://sdformat.org/spec?elem=link) -->
    <!--      <collision>-->
    <!--        <surface>-->
    <!--          <contact>-->
    <!--            <ode>-->
    <!--              <kp>1.0</kp>-->
    <!--              <kd>0.01</kd>-->
    <!--              <max_vel>0.0</max_vel>-->
    <!--              <min_depth>0.001</min_depth>-->
    <!--            </ode>-->
    <!--          </contact>-->
    <!--          <friction>-->
    <!--            <ode>-->
    <!--              <mu>0.9</mu>-->
    <!--              <mu2>0.9</mu2>-->
    <!--            </ode>-->
    <!--          </friction>-->
    <!--        </surface>-->
    <!--      </collision>-->
  </gazebo>
  <joint name="qbshin_ring_knuckle_joint" type="revolute">
    <origin rpy="1.57 0 1.57" xyz="0.022 0.062 -0.022"/>
    <parent link="qbshin_palm_link"/>
    <child link="qbshin_ring_knuckle_link"/>
    <axis xyz="0 0 -1"/>
    <dynamics damping="0.0" friction="0.0"/>
    <limit effort="100" lower="-0.524" upper="0.524" velocity="100"/>
    <mimic joint="qbshin_synergy_joint" multiplier="0.2"/>
  </joint>
  <transmission name="qbshin_transmission">
    <type>transmission_interface/qbMoveTransmission</type>
    <joint name="qbshin_ring_knuckle_joint">
      <hardwareInterface>hardware_interface/EffortJointInterface</hardwareInterface>
    </joint>
    <actuator name="qbshin_ring_knuckle_joint">
      <hardwareInterface>hardware_interface/EffortJointInterface</hardwareInterface>
    </actuator>
  </transmission>
  <gazebo reference="qbshin_ring_knuckle_joint">
    <!-- TODO: add other Gazebo Joint properties (http://sdformat.org/spec?elem=joint) -->
  </gazebo>
  <link name="qbshin_ring_knuckle_link">
    <inertial>
      <mass value="0.0095"/>
      <origin rpy="0 0 0" xyz="4.2753603e-04  0.0 -1.4321738e-03"/>
      <inertia ixx="6.4337303e-07" ixy="0.0" ixz="-3.9373913e-08" iyy="1.1253771e-06" iyz="0.0" izz="7.2336948e-07"/>
    </inertial>
    <visual>
      <origin rpy="0 0 0" xyz="0 0 0"/>
      <geometry>
        <mesh filename="package://meshes/sh_ph_prx_inj_d9_r_urdf.stl" scale="0.001 0.001 0.001"/>
      </geometry>
      <material name="qbshin/knuckle"/>
    </visual>
    <collision>
      <origin rpy="0 0 0" xyz="0 0 0"/>
      <geometry>
        <mesh filename="package://meshes/sh_ph_prx_inj_d9_r_urdf.stl" scale="0.001 0.001 0.001"/>
      </geometry>
    </collision>
  </link>
  <gazebo reference="qbshin_ring_knuckle_link">
    <self_collide>1</self_collide>
    <!-- TODO: add other Gazebo Link properties (http://sdformat.org/spec?elem=link) -->
    <!--      <collision>-->
    <!--        <surface>-->
    <!--          <contact>-->
    <!--            <ode>-->
    <!--              <kp>1.0</kp>-->
    <!--              <kd>0.01</kd>-->
    <!--              <max_vel>0.0</max_vel>-->
    <!--              <min_depth>0.001</min_depth>-->
    <!--            </ode>-->
    <!--          </contact>-->
    <!--          <friction>-->
    <!--            <ode>-->
    <!--              <mu>0.9</mu>-->
    <!--              <mu2>0.9</mu2>-->
    <!--            </ode>-->
    <!--          </friction>-->
    <!--        </surface>-->
    <!--      </collision>-->
  </gazebo>
  <joint name="qbshin_ring_proximal_joint" type="revolute">
    <origin rpy="0.0 0.0 0.0" xyz="0.01 0 -0.002"/>
    <parent link="qbshin_ring_knuckle_link"/>
    <child link="qbshin_ring_proximal_virtual_link"/>
    <axis xyz="0 0 -1"/>
    <dynamics damping="0.0" friction="0.0"/>
    <limit effort="100" lower="0.0" upper="0.785" velocity="100"/>
    <mimic joint="qbshin_synergy_joint" multiplier="0.785"/>
  </joint>
  <transmission name="qbshin_transmission">
    <type>transmission_interface/qbMoveTransmission</type>
    <joint name="qbshin_ring_proximal_joint">
      <hardwareInterface>hardware_interface/EffortJointInterface</hardwareInterface>
    </joint>
    <actuator name="qbshin_ring_proximal_joint">
      <hardwareInterface>hardware_interface/EffortJointInterface</hardwareInterface>
    </actuator>
  </transmission>
  <gazebo reference="qbshin_ring_proximal_joint">
    <!-- TODO: add other Gazebo Joint properties (http://sdformat.org/spec?elem=joint) -->
  </gazebo>
  <link name="qbshin_ring_proximal_virtual_link">
    <inertial>
      <origin rpy="0 0 0" xyz="0 0 0"/>
      <mass value="1e-4"/>
      <inertia ixx="1e-9" ixy="0.0" ixz="0.0" iyy="1e-9" iyz="0.0" izz="1e-9"/>
    </inertial>
  </link>
  <joint name="qbshin_ring_proximal_virtual_joint" type="revolute">
    <origin rpy="0 0 0" xyz="0.013 0 0"/>
    <parent link="qbshin_ring_proximal_virtual_link"/>
    <child link="qbshin_ring_proximal_link"/>
    <axis xyz="0 0 -1"/>
    <dynamics damping="0.0" friction="0.0"/>
    <limit effort="100" lower="0.0" upper="0.785" velocity="100"/>
    <mimic joint="qbshin_ring_proximal_joint" multiplier="1.0"/>
  </joint>
  <transmission name="qbshin_transmission">
    <type>transmission_interface/qbMoveTransmission</type>
    <joint name="qbshin_ring_proximal_virtual_joint">
      <hardwareInterface>hardware_interface/EffortJointInterface</hardwareInterface>
    </joint>
    <actuator name="qbshin_ring_proximal_virtual_joint">
      <hardwareInterface>hardware_interface/EffortJointInterface</hardwareInterface>
    </actuator>
  </transmission>
  <gazebo reference="qbshin_ring_proximal_virtual_joint">
    <!-- TODO: add other Gazebo Joint properties (http://sdformat.org/spec?elem=joint) -->
  </gazebo>
  <link name="qbshin_ring_proximal_link">
    <inertial>
      <mass value="0.0082"/>
      <origin rpy="0 0 0" xyz="8.7707437e-03 -1.7863138e-03 0.0"/>
      <inertia ixx="2.2722068e-07" ixy="1.1586053e-08" ixz="0.0" iyy="5.5947233e-07" iyz="0.0" izz="5.9562195e-07"/>
    </inertial>
    <visual>
      <origin rpy="0 0 0" xyz="0 0 0"/>
      <geometry>
        <mesh filename="package://meshes/mc_h_pad_30_urdf.stl" scale="0.001 0.001 0.001"/>
      </geometry>
      <material name="qbshin/proximal"/>
    </visual>
    <collision>
      <origin rpy="0 0 0" xyz="0 0 0"/>
      <geometry>
        <mesh filename="package://meshes/mc_h_pad_30_urdf.stl" scale="0.001 0.001 0.001"/>
      </geometry>
    </collision>
  </link>
  <gazebo reference="qbshin_ring_proximal_link">
    <self_collide>1</self_collide>
    <!-- TODO: add other Gazebo Link properties (http://sdformat.org/spec?elem=link) -->
    <!--      <collision>-->
    <!--        <surface>-->
    <!--          <contact>-->
    <!--            <ode>-->
    <!--              <kp>1.0</kp>-->
    <!--              <kd>0.01</kd>-->
    <!--              <max_vel>0.0</max_vel>-->
    <!--              <min_depth>0.001</min_depth>-->
    <!--            </ode>-->
    <!--          </contact>-->
    <!--          <friction>-->
    <!--            <ode>-->
    <!--              <mu>0.9</mu>-->
    <!--              <mu2>0.9</mu2>-->
    <!--            </ode>-->
    <!--          </friction>-->
    <!--        </surface>-->
    <!--      </collision>-->
  </gazebo>
  <joint name="qbshin_ring_middle_joint" type="revolute">
    <origin rpy="0 0 0" xyz="0.017 0 0"/>
    <parent link="qbshin_ring_proximal_link"/>
    <child link="qbshin_ring_middle_virtual_link"/>
    <axis xyz="0 0 -1"/>
    <dynamics damping="0.0" friction="0.0"/>
    <limit effort="100" lower="0.0" upper="0.785" velocity="100"/>
    <mimic joint="qbshin_synergy_joint" multiplier="0.785"/>
  </joint>
  <transmission name="qbshin_transmission">
    <type>transmission_interface/qbMoveTransmission</type>
    <joint name="qbshin_ring_middle_joint">
      <hardwareInterface>hardware_interface/EffortJointInterface</hardwareInterface>
    </joint>
    <actuator name="qbshin_ring_middle_joint">
      <hardwareInterface>hardware_interface/EffortJointInterface</hardwareInterface>
    </actuator>
  </transmission>
  <gazebo reference="qbshin_ring_middle_joint">
    <!-- TODO: add other Gazebo Joint properties (http://sdformat.org/spec?elem=joint) -->
  </gazebo>
  <link name="qbshin_ring_middle_virtual_link">
    <inertial>
      <origin rpy="0 0 0" xyz="0 0 0"/>
      <mass value="1e-4"/>
      <inertia ixx="1e-9" ixy="0.0" ixz="0.0" iyy="1e-9" iyz="0.0" izz="1e-9"/>
    </inertial>
  </link>
  <joint name="qbshin_ring_middle_virtual_joint" type="revolute">
    <origin rpy="0 0 0" xyz="0.013 0 0"/>
    <parent link="qbshin_ring_middle_virtual_link"/>
    <child link="qbshin_ring_middle_link"/>
    <axis xyz="0 0 -1"/>
    <dynamics damping="0.0" friction="0.0"/>
    <limit effort="100" lower="0.0" upper="0.785" velocity="100"/>
    <mimic joint="qbshin_ring_middle_joint" multiplier="1.0"/>
  </joint>
  <transmission name="qbshin_transmission">
    <type>transmission_interface/qbMoveTransmission</type>
    <joint name="qbshin_ring_middle_virtual_joint">
      <hardwareInterface>hardware_interface/EffortJointInterface</hardwareInterface>
    </joint>
    <actuator name="qbshin_ring_middle_virtual_joint">
      <hardwareInterface>hardware_interface/EffortJointInterface</hardwareInterface>
    </actuator>
  </transmission>
  <gazebo reference="qbshin_ring_middle_virtual_joint">
    <!-- TODO: add other Gazebo Joint properties (http://sdformat.org/spec?elem=joint) -->
  </gazebo>
  <link name="qbshin_ring_middle_link">
    <inertial>
      <mass value="0.0082"/>
      <origin rpy="0 0 0" xyz="8.7707437e-03 -1.7863138e-03 0.0"/>
      <inertia ixx="2.2722068e-07" ixy="1.1586053e-08" ixz="0.0" iyy="5.5947233e-07" iyz="0.0" izz="5.9562195e-07"/>
    </inertial>
    <visual>
      <origin rpy="0 0 0" xyz="0 0 0"/>
      <geometry>
        <mesh filename="package://meshes/mc_h_pad_25_urdf.stl" scale="0.001 0.001 0.001"/>
      </geometry>
      <material name="qbshin/middle"/>
    </visual>
    <collision>
      <origin rpy="0 0 0" xyz="0 0 0"/>
      <geometry>
        <mesh filename="package://meshes/mc_h_pad_25_urdf.stl" scale="0.001 0.001 0.001"/>
      </geometry>
    </collision>
  </link>
  <gazebo reference="qbshin_ring_middle_link">
    <self_collide>1</self_collide>
    <!-- TODO: add other Gazebo Link properties (http://sdformat.org/spec?elem=link) -->
    <!--      <collision>-->
    <!--        <surface>-->
    <!--          <contact>-->
    <!--            <ode>-->
    <!--              <kp>1.0</kp>-->
    <!--              <kd>0.01</kd>-->
    <!--              <max_vel>0.0</max_vel>-->
    <!--              <min_depth>0.001</min_depth>-->
    <!--            </ode>-->
    <!--          </contact>-->
    <!--          <friction>-->
    <!--            <ode>-->
    <!--              <mu>0.9</mu>-->
    <!--              <mu2>0.9</mu2>-->
    <!--            </ode>-->
    <!--          </friction>-->
    <!--        </surface>-->
    <!--      </collision>-->
  </gazebo>
  <joint name="qbshin_ring_distal_joint" type="revolute">
    <origin rpy="0.0 0.0 0.0" xyz="0.012 0.002 0"/>
    <parent link="qbshin_ring_middle_link"/>
    <child link="qbshin_ring_distal_virtual_link"/>
    <axis xyz="0 0 -1"/>
    <dynamics damping="0.0" friction="0.0"/>
    <limit effort="100" lower="0.0" upper="0.785" velocity="100"/>
    <mimic joint="qbshin_synergy_joint" multiplier="0.785"/>
  </joint>
  <transmission name="qbshin_transmission">
    <type>transmission_interface/qbMoveTransmission</type>
    <joint name="qbshin_ring_distal_joint">
      <hardwareInterface>hardware_interface/EffortJointInterface</hardwareInterface>
    </joint>
    <actuator name="qbshin_ring_distal_joint">
      <hardwareInterface>hardware_interface/EffortJointInterface</hardwareInterface>
    </actuator>
  </transmission>
  <gazebo reference="qbshin_ring_distal_joint">
    <!-- TODO: add other Gazebo Joint properties (http://sdformat.org/spec?elem=joint) -->
  </gazebo>
  <link name="qbshin_ring_distal_virtual_link">
    <inertial>
      <origin rpy="0 0 0" xyz="0 0 0"/>
      <mass value="1e-4"/>
      <inertia ixx="1e-9" ixy="0.0" ixz="0.0" iyy="1e-9" iyz="0.0" izz="1e-9"/>
    </inertial>
  </link>
  <joint name="qbshin_ring_distal_virtual_joint" type="revolute">
    <origin rpy="0 0 0" xyz="0.013 0 0"/>
    <parent link="qbshin_ring_distal_virtual_link"/>
    <child link="qbshin_ring_distal_link"/>
    <axis xyz="0 0 -1"/>
    <dynamics damping="0.0" friction="0.0"/>
    <limit effort="100" lower="0.0" upper="0.785" velocity="100"/>
    <mimic joint="qbshin_ring_distal_joint" multiplier="1.0"/>
  </joint>
  <transmission name="qbshin_transmission">
    <type>transmission_interface/qbMoveTransmission</type>
    <joint name="qbshin_ring_distal_virtual_joint">
      <hardwareInterface>hardware_interface/EffortJointInterface</hardwareInterface>
    </joint>
    <actuator name="qbshin_ring_distal_virtual_joint">
      <hardwareInterface>hardware_interface/EffortJointInterface</hardwareInterface>
    </actuator>
  </transmission>
  <gazebo reference="qbshin_ring_distal_virtual_joint">
    <!-- TODO: add other Gazebo Joint properties (http://sdformat.org/spec?elem=joint) -->
  </gazebo>
  <link name="qbshin_ring_distal_link">
    <inertial>
      <mass value="0.009"/>
      <origin rpy="0 0 0" xyz="8.8025467e-03 -1.7219289e-03 0.0"/>
      <inertia ixx="2.6586142e-07" ixy="1.2416847e-08" ixz="0.0" iyy="5.9935767e-07" iyz="0.0" izz="6.6781963e-07"/>
    </inertial>
    <visual>
      <origin rpy="0 0 0" xyz="0 0 0"/>
      <geometry>
        <mesh filename="package://meshes/mc_h_pad_dist_urdf.stl" scale="0.001 0.001 0.001"/>
      </geometry>
      <material name="qbshin/distal"/>
    </visual>
    <collision>
      <origin rpy="0 0 0" xyz="0 0 0"/>
      <geometry>
        <mesh filename="package://meshes/mc_h_pad_dist_urdf.stl" scale="0.001 0.001 0.001"/>
      </geometry>
    </collision>
  </link>
  <gazebo reference="qbshin_ring_distal_link">
    <self_collide>1</self_collide>
    <!-- TODO: add other Gazebo Link properties (http://sdformat.org/spec?elem=link) -->
    <!--      <collision>-->
    <!--        <surface>-->
    <!--          <contact>-->
    <!--            <ode>-->
    <!--              <kp>1.0</kp>-->
    <!--              <kd>0.01</kd>-->
    <!--              <max_vel>0.0</max_vel>-->
    <!--              <min_depth>0.001</min_depth>-->
    <!--            </ode>-->
    <!--          </contact>-->
    <!--          <friction>-->
    <!--            <ode>-->
    <!--              <mu>0.9</mu>-->
    <!--              <mu2>0.9</mu2>-->
    <!--            </ode>-->
    <!--          </friction>-->
    <!--        </surface>-->
    <!--      </collision>-->
  </gazebo>
  <joint name="qbshin_little_knuckle_joint" type="revolute">
    <origin rpy="1.57 0 1.57" xyz="0.049 0.044 -0.022"/>
    <parent link="qbshin_palm_link"/>
    <child link="qbshin_little_knuckle_link"/>
    <axis xyz="0 0 -1"/>
    <dynamics damping="0.0" friction="0.0"/>
    <limit effort="100" lower="-0.524" upper="0.524" velocity="100"/>
    <mimic joint="qbshin_synergy_joint" multiplier="0.4"/>
  </joint>
  <transmission name="qbshin_transmission">
    <type>transmission_interface/qbMoveTransmission</type>
    <joint name="qbshin_little_knuckle_joint">
      <hardwareInterface>hardware_interface/EffortJointInterface</hardwareInterface>
    </joint>
    <actuator name="qbshin_little_knuckle_joint">
      <hardwareInterface>hardware_interface/EffortJointInterface</hardwareInterface>
    </actuator>
  </transmission>
  <gazebo reference="qbshin_little_knuckle_joint">
    <!-- TODO: add other Gazebo Joint properties (http://sdformat.org/spec?elem=joint) -->
  </gazebo>
  <link name="qbshin_little_knuckle_link">
    <inertial>
      <mass value="0.0095"/>
      <origin rpy="0 0 0" xyz="4.2753603e-04  0.0 -1.4321738e-03"/>
      <inertia ixx="6.4337303e-07" ixy="0.0" ixz="-3.9373913e-08" iyy="1.1253771e-06" iyz="0.0" izz="7.2336948e-07"/>
    </inertial>
    <visual>
      <origin rpy="0 0 0" xyz="0 0 0"/>
      <geometry>
        <mesh filename="package://meshes/sh_ph_prx_inj_d9_r_urdf.stl" scale="0.001 0.001 0.001"/>
      </geometry>
      <material name="qbshin/knuckle"/>
    </visual>
    <collision>
      <origin rpy="0 0 0" xyz="0 0 0"/>
      <geometry>
        <mesh filename="package://meshes/sh_ph_prx_inj_d9_r_urdf.stl" scale="0.001 0.001 0.001"/>
      </geometry>
    </collision>
  </link>
  <gazebo reference="qbshin_little_knuckle_link">
    <self_collide>1</self_collide>
    <!-- TODO: add other Gazebo Link properties (http://sdformat.org/spec?elem=link) -->
    <!--      <collision>-->
    <!--        <surface>-->
    <!--          <contact>-->
    <!--            <ode>-->
    <!--              <kp>1.0</kp>-->
    <!--              <kd>0.01</kd>-->
    <!--              <max_vel>0.0</max_vel>-->
    <!--              <min_depth>0.001</min_depth>-->
    <!--            </ode>-->
    <!--          </contact>-->
    <!--          <friction>-->
    <!--            <ode>-->
    <!--              <mu>0.9</mu>-->
    <!--              <mu2>0.9</mu2>-->
    <!--            </ode>-->
    <!--          </friction>-->
    <!--        </surface>-->
    <!--      </collision>-->
  </gazebo>
  <joint name="qbshin_little_proximal_joint" type="revolute">
    <origin rpy="0.0 0.0 0.0" xyz="0.01 0 -0.002"/>
    <parent link="qbshin_little_knuckle_link"/>
    <child link="qbshin_little_proximal_virtual_link"/>
    <axis xyz="0 0 -1"/>
    <dynamics damping="0.0" friction="0.0"/>
    <limit effort="100" lower="0.0" upper="0.785" velocity="100"/>
    <mimic joint="qbshin_synergy_joint" multiplier="0.785"/>
  </joint>
  <transmission name="qbshin_transmission">
    <type>transmission_interface/qbMoveTransmission</type>
    <joint name="qbshin_little_proximal_joint">
      <hardwareInterface>hardware_interface/EffortJointInterface</hardwareInterface>
    </joint>
    <actuator name="qbshin_little_proximal_joint">
      <hardwareInterface>hardware_interface/EffortJointInterface</hardwareInterface>
    </actuator>
  </transmission>
  <gazebo reference="qbshin_little_proximal_joint">
    <!-- TODO: add other Gazebo Joint properties (http://sdformat.org/spec?elem=joint) -->
  </gazebo>
  <link name="qbshin_little_proximal_virtual_link">
    <inertial>
      <origin rpy="0 0 0" xyz="0 0 0"/>
      <mass value="1e-4"/>
      <inertia ixx="1e-9" ixy="0.0" ixz="0.0" iyy="1e-9" iyz="0.0" izz="1e-9"/>
    </inertial>
  </link>
  <joint name="qbshin_little_proximal_virtual_joint" type="revolute">
    <origin rpy="0 0 0" xyz="0.013 0 0"/>
    <parent link="qbshin_little_proximal_virtual_link"/>
    <child link="qbshin_little_proximal_link"/>
    <axis xyz="0 0 -1"/>
    <dynamics damping="0.0" friction="0.0"/>
    <limit effort="100" lower="0.0" upper="0.785" velocity="100"/>
    <mimic joint="qbshin_little_proximal_joint" multiplier="1.0"/>
  </joint>
  <transmission name="qbshin_transmission">
    <type>transmission_interface/qbMoveTransmission</type>
    <joint name="qbshin_little_proximal_virtual_joint">
      <hardwareInterface>hardware_interface/EffortJointInterface</hardwareInterface>
    </joint>
    <actuator name="qbshin_little_proximal_virtual_joint">
      <hardwareInterface>hardware_interface/EffortJointInterface</hardwareInterface>
    </actuator>
  </transmission>
  <gazebo reference="qbshin_little_proximal_virtual_joint">
    <!-- TODO: add other Gazebo Joint properties (http://sdformat.org/spec?elem=joint) -->
  </gazebo>
  <link name="qbshin_little_proximal_link">
    <inertial>
      <mass value="0.0082"/>
      <origin rpy="0 0 0" xyz="8.7707437e-03 -1.7863138e-03 0.0"/>
      <inertia ixx="2.2722068e-07" ixy="1.1586053e-08" ixz="0.0" iyy="5.5947233e-07" iyz="0.0" izz="5.9562195e-07"/>
    </inertial>
    <visual>
      <origin rpy="0 0 0" xyz="0 0 0"/>
      <geometry>
        <mesh filename="package://meshes/mc_h_pad_25_urdf.stl" scale="0.001 0.001 0.001"/>
      </geometry>
      <material name="qbshin/proximal"/>
    </visual>
    <collision>
      <origin rpy="0 0 0" xyz="0 0 0"/>
      <geometry>
        <mesh filename="package://meshes/mc_h_pad_25_urdf.stl" scale="0.001 0.001 0.001"/>
      </geometry>
    </collision>
  </link>
  <gazebo reference="qbshin_little_proximal_link">
    <self_collide>1</self_collide>
    <!-- TODO: add other Gazebo Link properties (http://sdformat.org/spec?elem=link) -->
    <!--      <collision>-->
    <!--        <surface>-->
    <!--          <contact>-->
    <!--            <ode>-->
    <!--              <kp>1.0</kp>-->
    <!--              <kd>0.01</kd>-->
    <!--              <max_vel>0.0</max_vel>-->
    <!--              <min_depth>0.001</min_depth>-->
    <!--            </ode>-->
    <!--          </contact>-->
    <!--          <friction>-->
    <!--            <ode>-->
    <!--              <mu>0.9</mu>-->
    <!--              <mu2>0.9</mu2>-->
    <!--            </ode>-->
    <!--          </friction>-->
    <!--        </surface>-->
    <!--      </collision>-->
  </gazebo>
  <joint name="qbshin_little_middle_joint" type="revolute">
    <origin rpy="0.0 0.0 0.0" xyz="0.01 0 0"/>
    <parent link="qbshin_little_proximal_link"/>
    <child link="qbshin_little_middle_virtual_link"/>
    <axis xyz="0 0 -1"/>
    <dynamics damping="0.0" friction="0.0"/>
    <limit effort="100" lower="0.0" upper="0.785" velocity="100"/>
    <mimic joint="qbshin_synergy_joint" multiplier="0.785"/>
  </joint>
  <transmission name="qbshin_transmission">
    <type>transmission_interface/qbMoveTransmission</type>
    <joint name="qbshin_little_middle_joint">
      <hardwareInterface>hardware_interface/EffortJointInterface</hardwareInterface>
    </joint>
    <actuator name="qbshin_little_middle_joint">
      <hardwareInterface>hardware_interface/EffortJointInterface</hardwareInterface>
    </actuator>
  </transmission>
  <gazebo reference="qbshin_little_middle_joint">
    <!-- TODO: add other Gazebo Joint properties (http://sdformat.org/spec?elem=joint) -->
  </gazebo>
  <link name="qbshin_little_middle_virtual_link">
    <inertial>
      <origin rpy="0 0 0" xyz="0 0 0"/>
      <mass value="1e-4"/>
      <inertia ixx="1e-9" ixy="0.0" ixz="0.0" iyy="1e-9" iyz="0.0" izz="1e-9"/>
    </inertial>
  </link>
  <joint name="qbshin_little_middle_virtual_joint" type="revolute">
    <origin rpy="0 0 0" xyz="0.013 0 0"/>
    <parent link="qbshin_little_middle_virtual_link"/>
    <child link="qbshin_little_middle_link"/>
    <axis xyz="0 0 -1"/>
    <dynamics damping="0.0" friction="0.0"/>
    <limit effort="100" lower="0.0" upper="0.785" velocity="100"/>
    <mimic joint="qbshin_little_middle_joint" multiplier="1.0"/>
  </joint>
  <transmission name="qbshin_transmission">
    <type>transmission_interface/qbMoveTransmission</type>
    <joint name="qbshin_little_middle_virtual_joint">
      <hardwareInterface>hardware_interface/EffortJointInterface</hardwareInterface>
    </joint>
    <actuator name="qbshin_little_middle_virtual_joint">
      <hardwareInterface>hardware_interface/EffortJointInterface</hardwareInterface>
    </actuator>
  </transmission>
  <gazebo reference="qbshin_little_middle_virtual_joint">
    <!-- TODO: add other Gazebo Joint properties (http://sdformat.org/spec?elem=joint) -->
  </gazebo>
  <link name="qbshin_little_middle_link">
    <inertial>
      <mass value="0.0082"/>
      <origin rpy="0 0 0" xyz="8.7707437e-03 -1.7863138e-03 0.0"/>
      <inertia ixx="2.2722068e-07" ixy="1.1586053e-08" ixz="0.0" iyy="5.5947233e-07" iyz="0.0" izz="5.9562195e-07"/>
    </inertial>
    <visual>
      <origin rpy="0 0 0" xyz="0 0 0"/>
      <geometry>
        <mesh filename="package://meshes/mc_h_pad_21_urdf.stl" scale="0.001 0.001 0.001"/>
      </geometry>
      <material name="qbshin/middle"/>
    </visual>
    <collision>
      <origin rpy="0 0 0" xyz="0 0 0"/>
      <geometry>
        <mesh filename="package://meshes/mc_h_pad_21_urdf.stl" scale="0.001 0.001 0.001"/>
      </geometry>
    </collision>
  </link>
  <gazebo reference="qbshin_little_middle_link">
    <self_collide>1</self_collide>
    <!-- TODO: add other Gazebo Link properties (http://sdformat.org/spec?elem=link) -->
    <!--      <collision>-->
    <!--        <surface>-->
    <!--          <contact>-->
    <!--            <ode>-->
    <!--              <kp>1.0</kp>-->
    <!--              <kd>0.01</kd>-->
    <!--              <max_vel>0.0</max_vel>-->
    <!--              <min_depth>0.001</min_depth>-->
    <!--            </ode>-->
    <!--          </contact>-->
    <!--          <friction>-->
    <!--            <ode>-->
    <!--              <mu>0.9</mu>-->
    <!--              <mu2>0.9</mu2>-->
    <!--            </ode>-->
    <!--          </friction>-->
    <!--        </surface>-->
    <!--      </collision>-->
  </gazebo>
  <joint name="qbshin_little_distal_joint" type="revolute">
    <origin rpy="0.0 0.0 0.0" xyz="0.008 0.002 0"/>
    <parent link="qbshin_little_middle_link"/>
    <child link="qbshin_little_distal_virtual_link"/>
    <axis xyz="0 0 -1"/>
    <dynamics damping="0.0" friction="0.0"/>
    <limit effort="100" lower="0.0" upper="0.785" velocity="100"/>
    <mimic joint="qbshin_synergy_joint" multiplier="0.785"/>
  </joint>
  <transmission name="qbshin_transmission">
    <type>transmission_interface/qbMoveTransmission</type>
    <joint name="qbshin_little_distal_joint">
      <hardwareInterface>hardware_interface/EffortJointInterface</hardwareInterface>
    </joint>
    <actuator name="qbshin_little_distal_joint">
      <hardwareInterface>hardware_interface/EffortJointInterface</hardwareInterface>
    </actuator>
  </transmission>
  <gazebo reference="qbshin_little_distal_joint">
    <!-- TODO: add other Gazebo Joint properties (http://sdformat.org/spec?elem=joint) -->
  </gazebo>
  <link name="qbshin_little_distal_virtual_link">
    <inertial>
      <origin rpy="0 0 0" xyz="0 0 0"/>
      <mass value="1e-4"/>
      <inertia ixx="1e-9" ixy="0.0" ixz="0.0" iyy="1e-9" iyz="0.0" izz="1e-9"/>
    </inertial>
  </link>
  <joint name="qbshin_little_distal_virtual_joint" type="revolute">
    <origin rpy="0 0 0" xyz="0.013 0 0"/>
    <parent link="qbshin_little_distal_virtual_link"/>
    <child link="qbshin_little_distal_link"/>
    <axis xyz="0 0 -1"/>
    <dynamics damping="0.0" friction="0.0"/>
    <limit effort="100" lower="0.0" upper="0.785" velocity="100"/>
    <mimic joint="qbshin_little_distal_joint" multiplier="1.0"/>
  </joint>
  <transmission name="qbshin_transmission">
    <type>transmission_interface/qbMoveTransmission</type>
    <joint name="qbshin_little_distal_virtual_joint">
      <hardwareInterface>hardware_interface/EffortJointInterface</hardwareInterface>
    </joint>
    <actuator name="qbshin_little_distal_virtual_joint">
      <hardwareInterface>hardware_interface/EffortJointInterface</hardwareInterface>
    </actuator>
  </transmission>
  <gazebo reference="qbshin_little_distal_virtual_joint">
    <!-- TODO: add other Gazebo Joint properties (http://sdformat.org/spec?elem=joint) -->
  </gazebo>
  <link name="qbshin_little_distal_link">
    <inertial>
      <mass value="0.009"/>
      <origin rpy="0 0 0" xyz="8.8025467e-03 -1.7219289e-03 0.0"/>
      <inertia ixx="2.6586142e-07" ixy="1.2416847e-08" ixz="0.0" iyy="5.9935767e-07" iyz="0.0" izz="6.6781963e-07"/>
    </inertial>
    <visual>
      <origin rpy="0 0 0" xyz="0 0 0"/>
      <geometry>
        <mesh filename="package://meshes/mc_h_pad_dist_urdf.stl" scale="0.001 0.001 0.001"/>
      </geometry>
      <material name="qbshin/distal"/>
    </visual>
    <collision>
      <origin rpy="0 0 0" xyz="0 0 0"/>
      <geometry>
        <mesh filename="package://meshes/mc_h_pad_dist_urdf.stl" scale="0.001 0.001 0.001"/>
      </geometry>
    </collision>
  </link>
  <gazebo reference="qbshin_little_distal_link">
    <self_collide>1</self_collide>
    <!-- TODO: add other Gazebo Link properties (http://sdformat.org/spec?elem=link) -->
    <!--      <collision>-->
    <!--        <surface>-->
    <!--          <contact>-->
    <!--            <ode>-->
    <!--              <kp>1.0</kp>-->
    <!--              <kd>0.01</kd>-->
    <!--              <max_vel>0.0</max_vel>-->
    <!--              <min_depth>0.001</min_depth>-->
    <!--            </ode>-->
    <!--          </contact>-->
    <!--          <friction>-->
    <!--            <ode>-->
    <!--              <mu>0.9</mu>-->
    <!--              <mu2>0.9</mu2>-->
    <!--            </ode>-->
    <!--          </friction>-->
    <!--        </surface>-->
    <!--      </collision>-->
  </gazebo>
  <joint name="qbshin_end_effector_fixed_joint" type="fixed">
    <origin rpy="-1.57 0 0" xyz="-0.03 0.082 -0.09"/>
    <parent link="qbshin_palm_link"/>
    <child link="qbshin_end_effector_link"/>
  </joint>
  <link name="qbshin_end_effector_link"/>
</robot>
